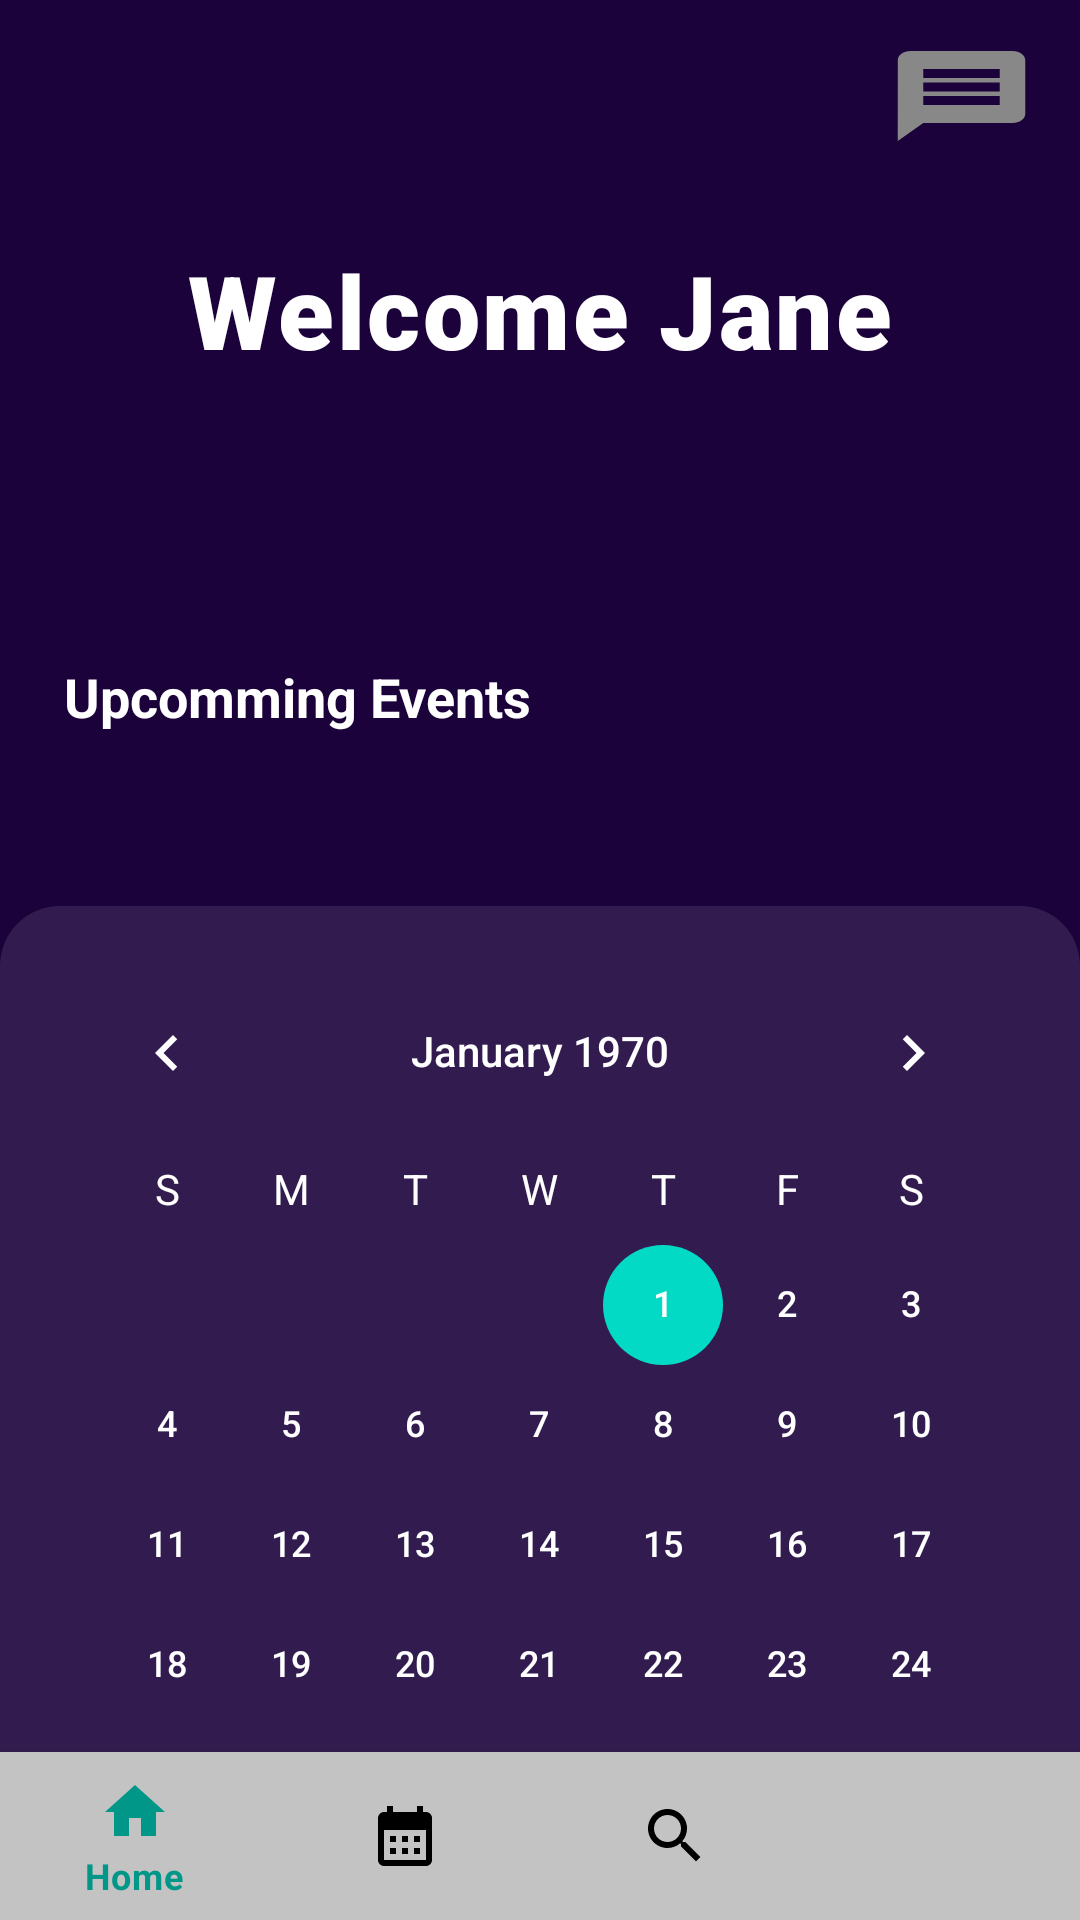

Icon bounding boxes for this 1080*1920 phone screenshot, format (x1, y1, x2, y2):
text message: (897, 51, 1026, 141)
